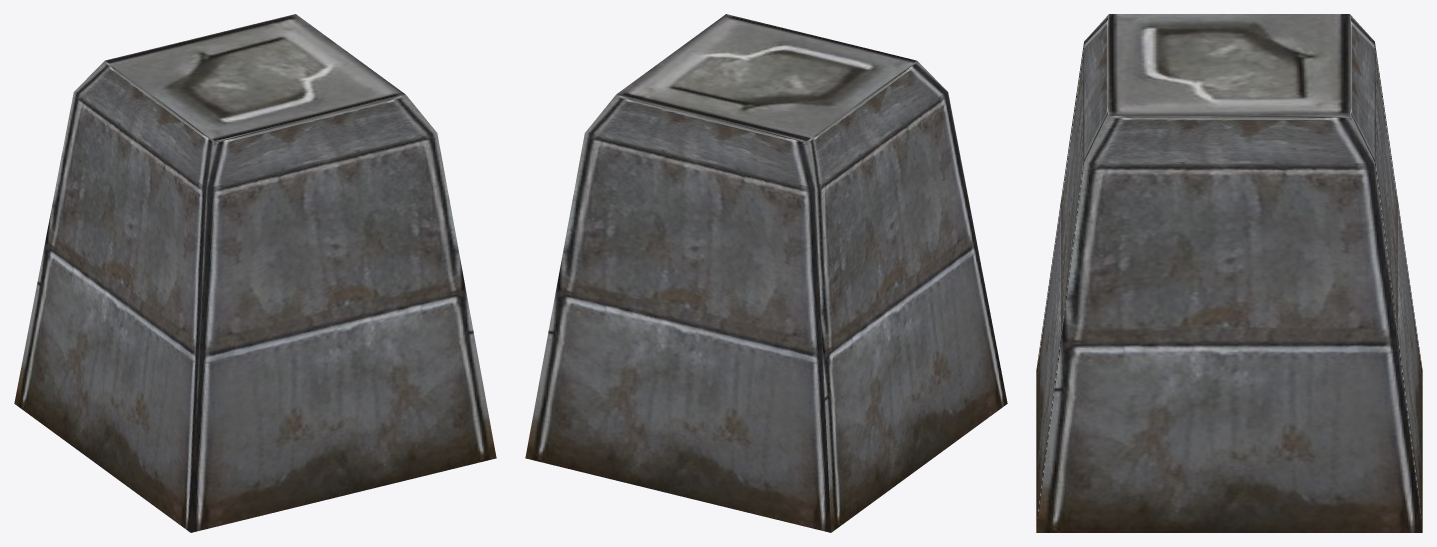
File: s_lightpost_hdtex.glb
The picture shows the model from 3 angles, left to right: view 1: azimuth 30°, elevation 25°; view 2: azimuth 150°, elevation 25°; view 3: azimuth 270°, elevation 25°; orthographic projection. The views are drawn at different scales.
Parts seen in each view (by area): view 1: S_LightWall; view 2: S_LightWall; view 3: S_LightWall.
Boxes of the visible parts, box(x1,y1,x2,y2) form: S_LightWall: box(14, 14, 496, 532); S_LightWall: box(525, 14, 1007, 532); S_LightWall: box(1036, 14, 1422, 532).
Bounding box in the file's own units: 4.03 × 4.46 × 4.03.
Materials: 1 (1 with a texture image).
